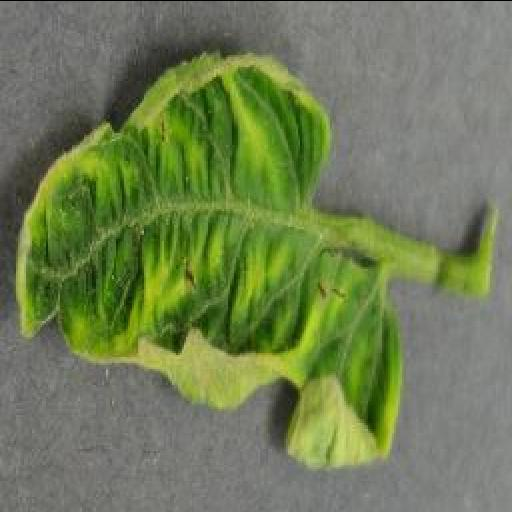disease_tomato: (6, 50, 402, 468)
